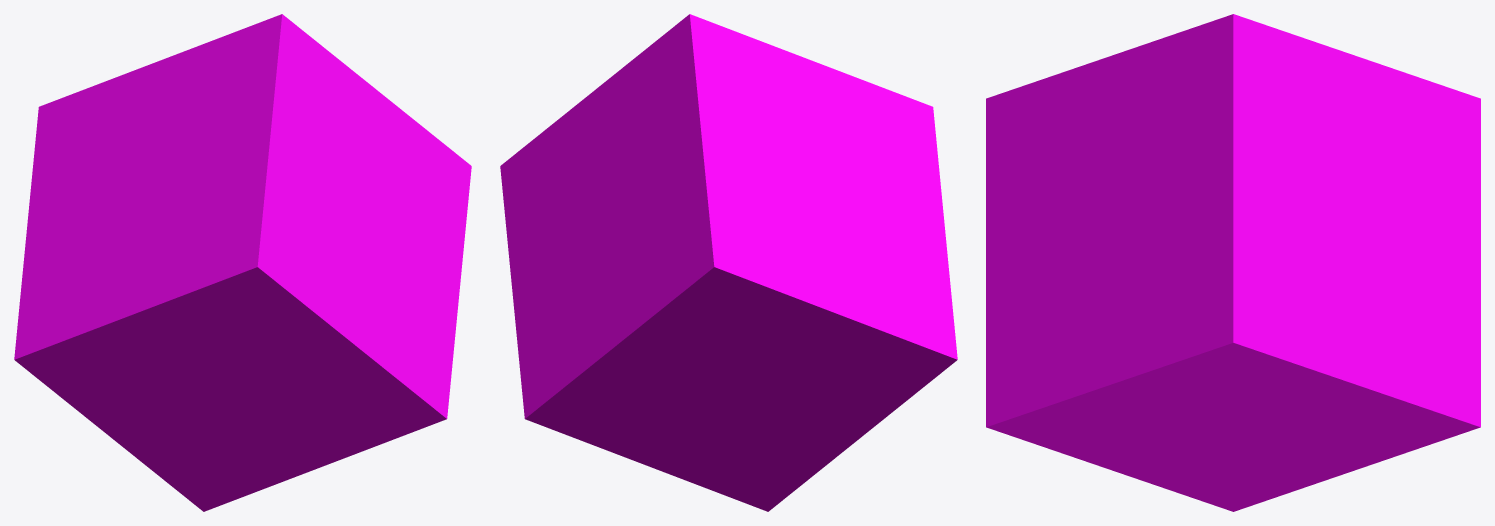
3 views of the same model, side by side, from view 1: azimuth 30°, elevation 25°; view 2: azimuth 150°, elevation 25°; view 3: azimuth 270°, elevation 25° (orthographic). The views are drawn at different scales.
Visible parts, largest first — view 1: Cube; view 2: Cube; view 3: Cube.
Boxes of the visible parts, x1=… form: Cube: x1=14, y1=14, x2=471, y2=511; Cube: x1=500, y1=14, x2=957, y2=511; Cube: x1=986, y1=14, x2=1480, y2=511.
Bounding box in the file's own units: 3.41 × 3.41 × 2.83.
